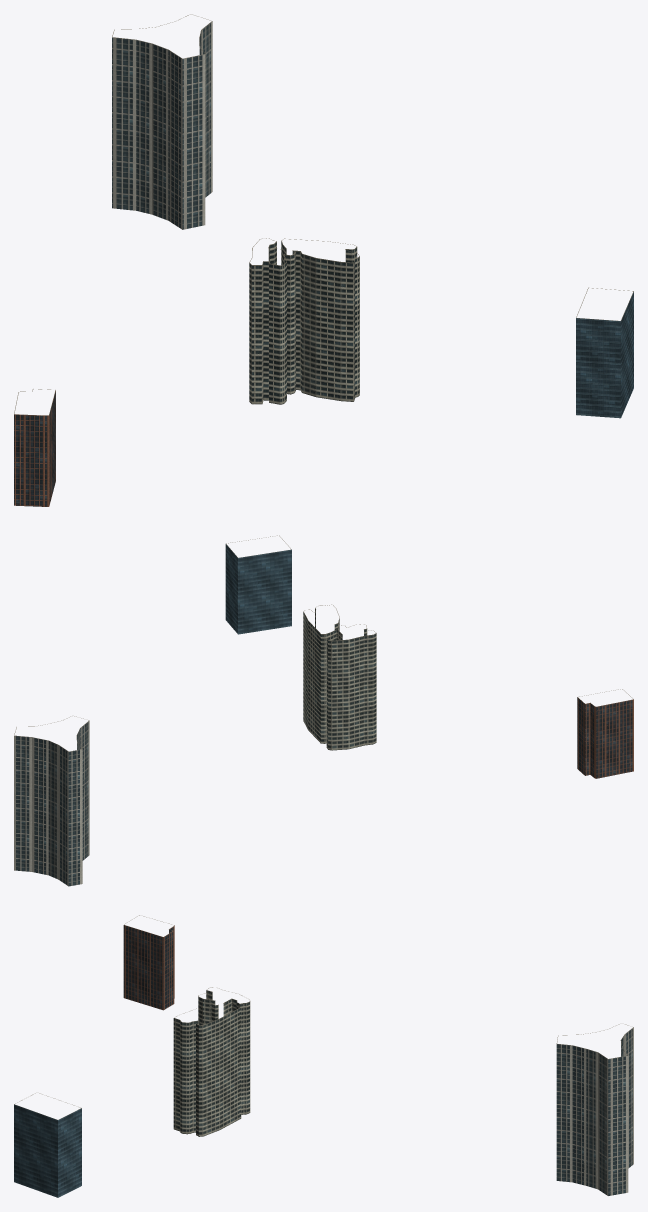
3 views of the same model, one above another, from view 1: azimuth 30°, elevation 25°; view 2: azimuth 150°, elevation 25°; view 3: azimuth 270°, elevation 25° (orthographic). The views are drawn at different scales.
Parts seen in each view (by area): view 1: LimestonePiers, RecessedBalconies, BlueSpandrels, ClayFins; view 2: LimestonePiers, RecessedBalconies, BlueSpandrels, ClayFins; view 3: LimestonePiers, RecessedBalconies, BlueSpandrels, ClayFins.
Part boxes in pixels (x1,y1,x2,y2): LimestonePiers: (112,21,212,229); RecessedBalconies: (249,241,359,404); BlueSpandrels: (576,292,633,418); ClayFins: (14,390,55,506); LimestonePiers: (14,721,89,886); RecessedBalconies: (303,608,376,750); BlueSpandrels: (225,544,291,634); ClayFins: (577,697,633,778); LimestonePiers: (556,1027,633,1195); RecessedBalconies: (173,990,250,1136); BlueSpandrels: (14,1104,81,1197); ClayFins: (123,925,174,1010).
Size of the model in its own units: 411 by 118 by 484.
Materials: 5 (5 with a texture image).
